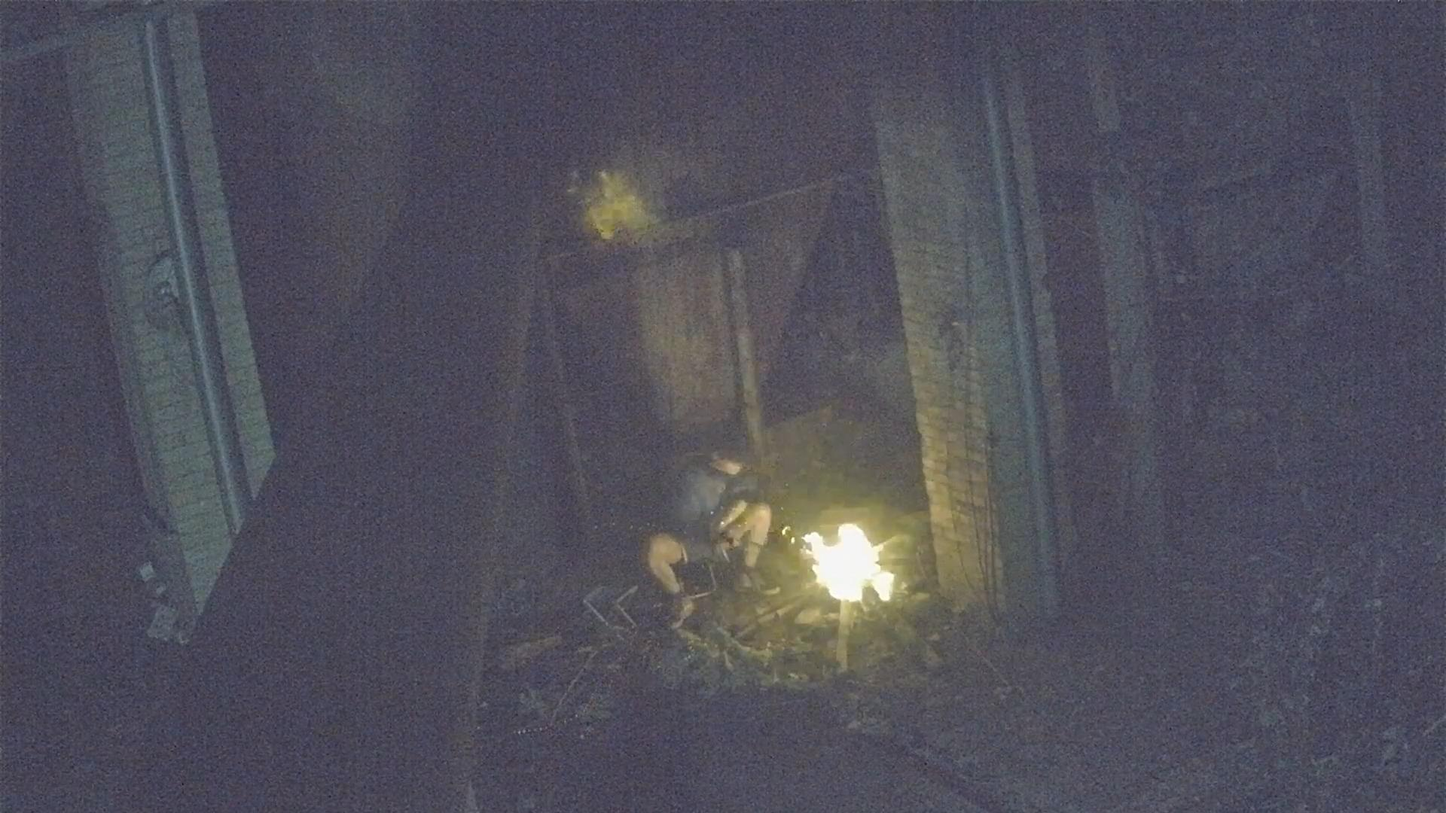fire: (804, 525, 891, 603)
